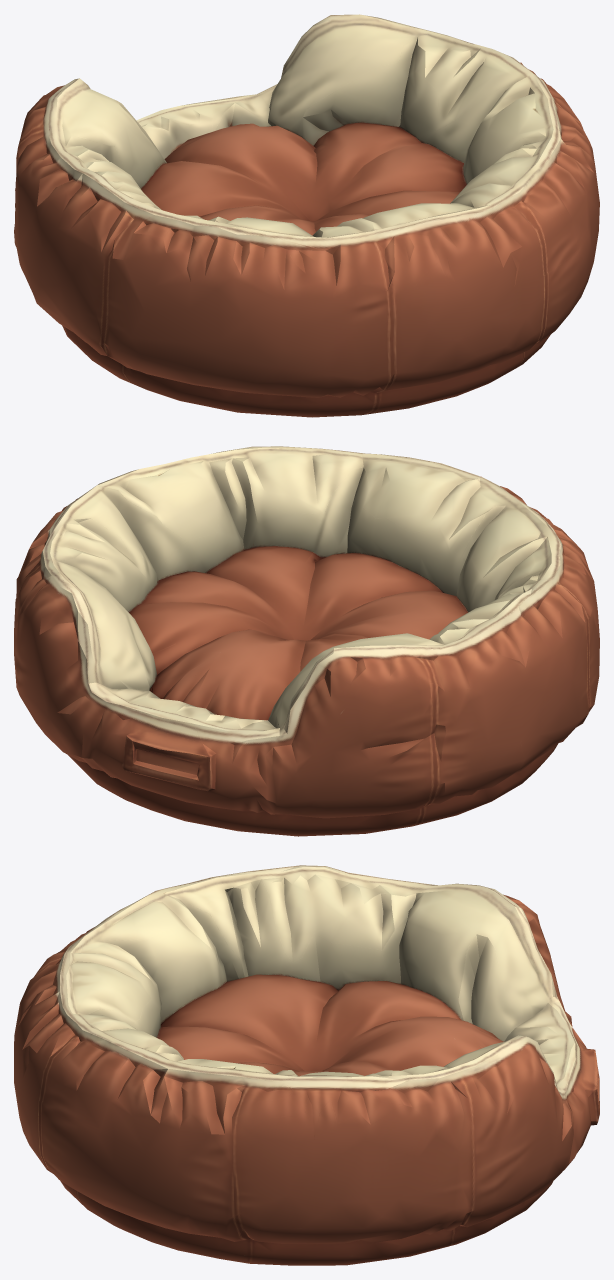
The model's file is PetBed.glb.
3 renders of one model, top to bottom at view 1: azimuth 30°, elevation 25°; view 2: azimuth 150°, elevation 25°; view 3: azimuth 270°, elevation 25°, orthographic.
Parts seen in each view (by area): view 1: geometry_0; view 2: geometry_0; view 3: geometry_0.
Boxes of the visible parts, left/top/right/bottom form: geometry_0: left=14, top=14, right=599, bottom=417; geometry_0: left=14, top=446, right=599, bottom=836; geometry_0: left=14, top=865, right=599, bottom=1265.
Bounding box in the file's own units: 0.6 × 0.2256 × 0.6006.
1 material, 1 textured.
